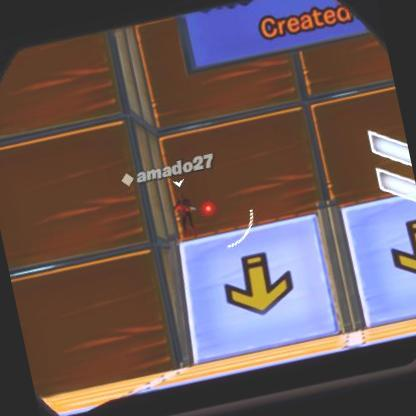person: (168, 188, 200, 241)
